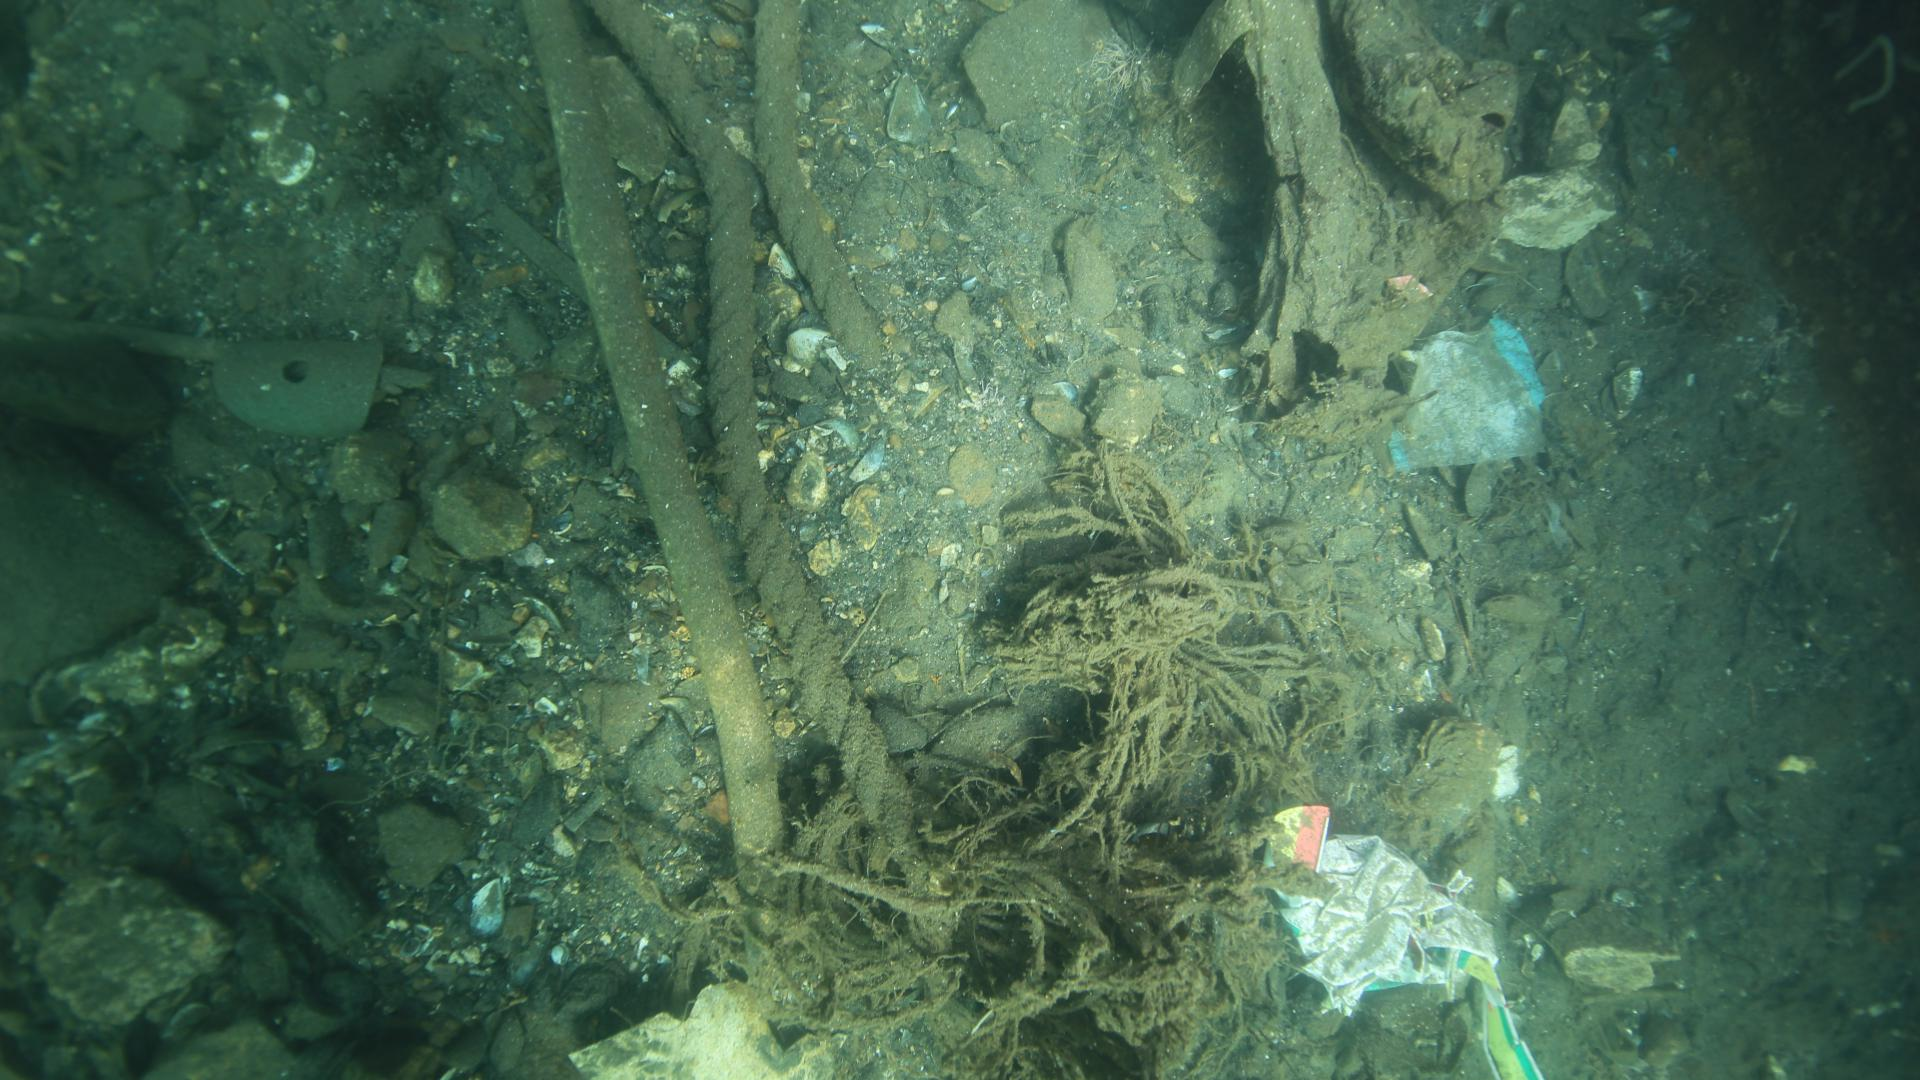bundle of ropes: (593, 0, 920, 853)
